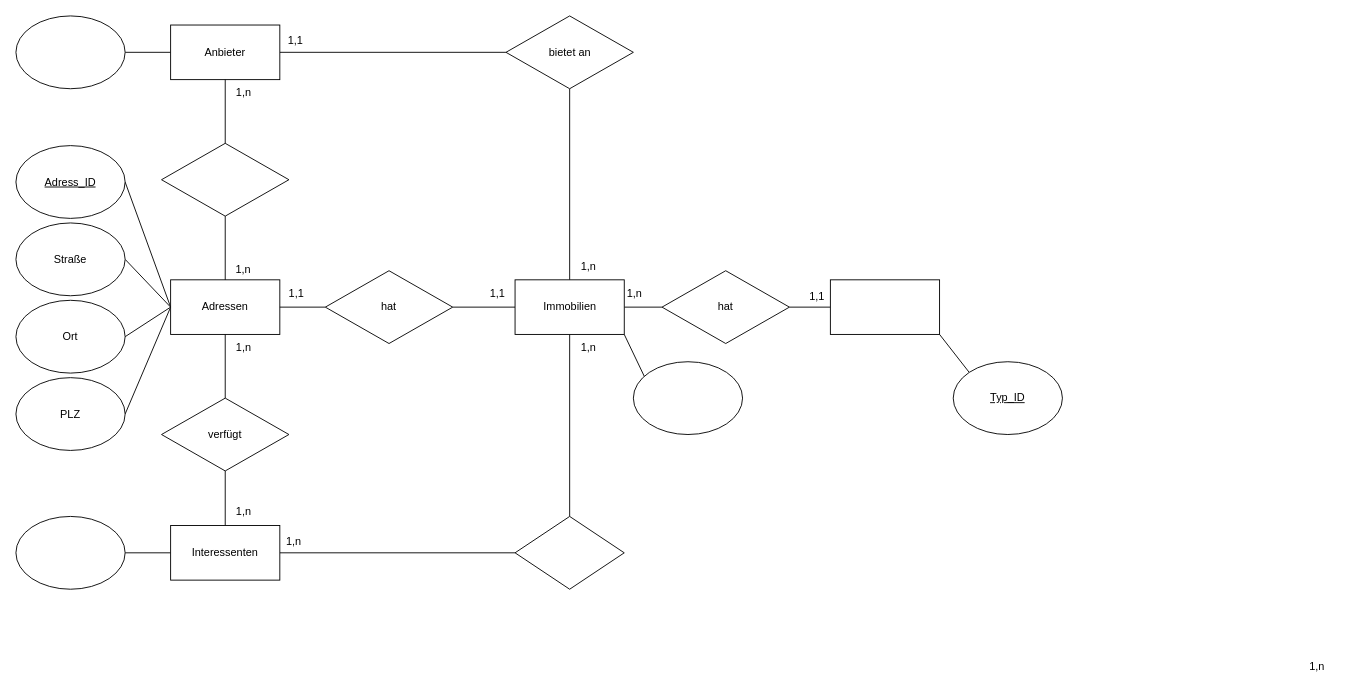
Some shapes in this 1360 by 696 pixel diagram are drawn without their labels. Each missing label, with the box of its shape:
Anbieter_ID: (15, 15, 125, 89)
Immobilien-Typ: (829, 279, 940, 334)
Immobilien_ID: (632, 361, 743, 435)
interresiert: (514, 516, 624, 589)
ist zu erreichen: (161, 142, 289, 216)
Kundennummer: (15, 516, 125, 589)
